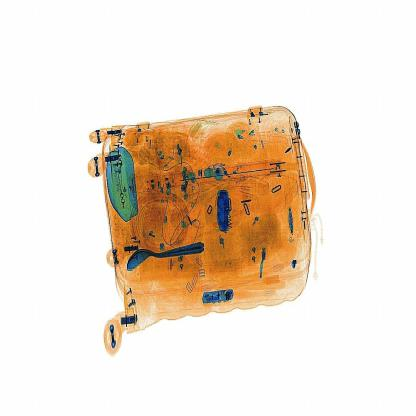scissors: (212, 182, 243, 244)
